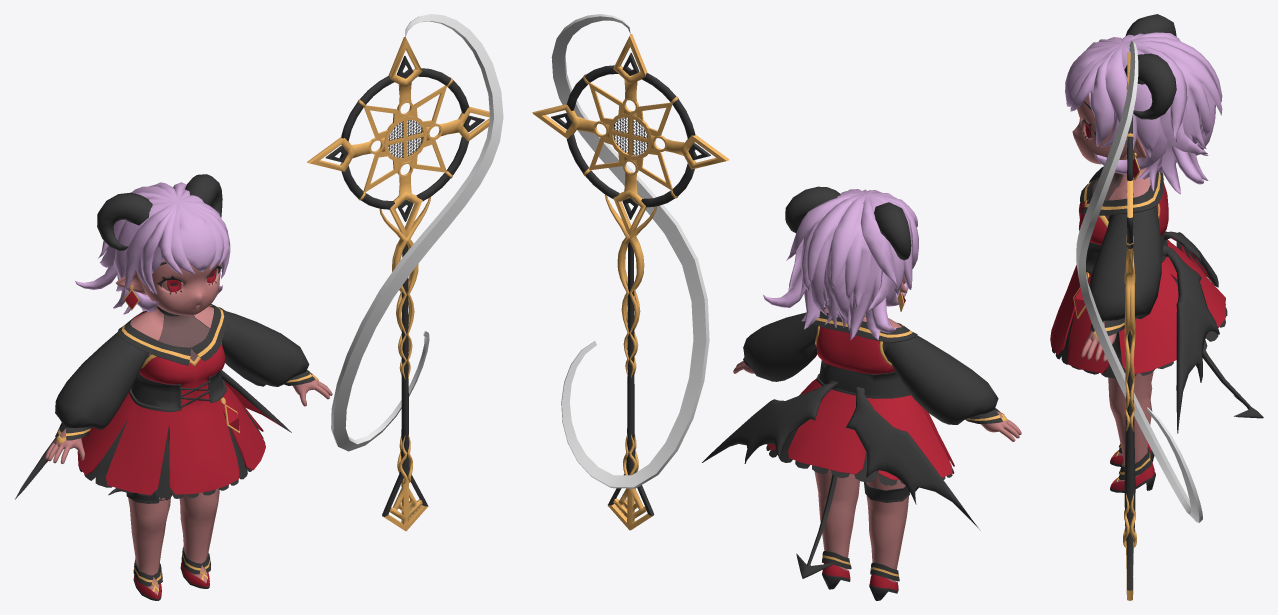
File: TestRed.fbx
The picture shows the model from 3 angles, left to right: view 1: azimuth 30°, elevation 25°; view 2: azimuth 150°, elevation 25°; view 3: azimuth 270°, elevation 25°; orthographic projection. The views are drawn at different scales.
Parts seen in each view (by area): view 1: RetopoFlow.004, weapon; view 2: RetopoFlow.004, weapon; view 3: RetopoFlow.004, weapon.
Part boxes in pixels (x1=…): RetopoFlow.004: x1=15, y1=174, x2=332, y2=600; weapon: x1=307, y1=14, x2=503, y2=531; RetopoFlow.004: x1=702, y1=186, x2=1021, y2=600; weapon: x1=532, y1=14, x2=729, y2=530; RetopoFlow.004: x1=1050, y1=14, x2=1263, y2=492; weapon: x1=1076, y1=41, x2=1202, y2=600.
Bounding box in the file's own units: 359 × 372 × 127.
